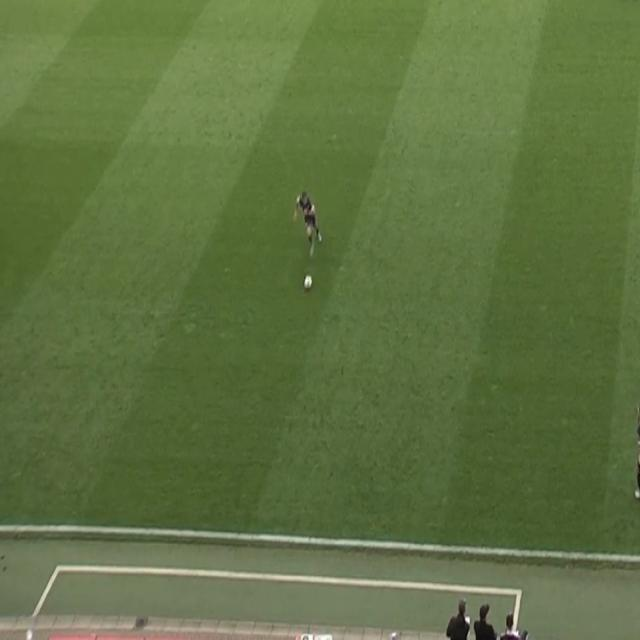ball: (302, 272, 314, 292)
